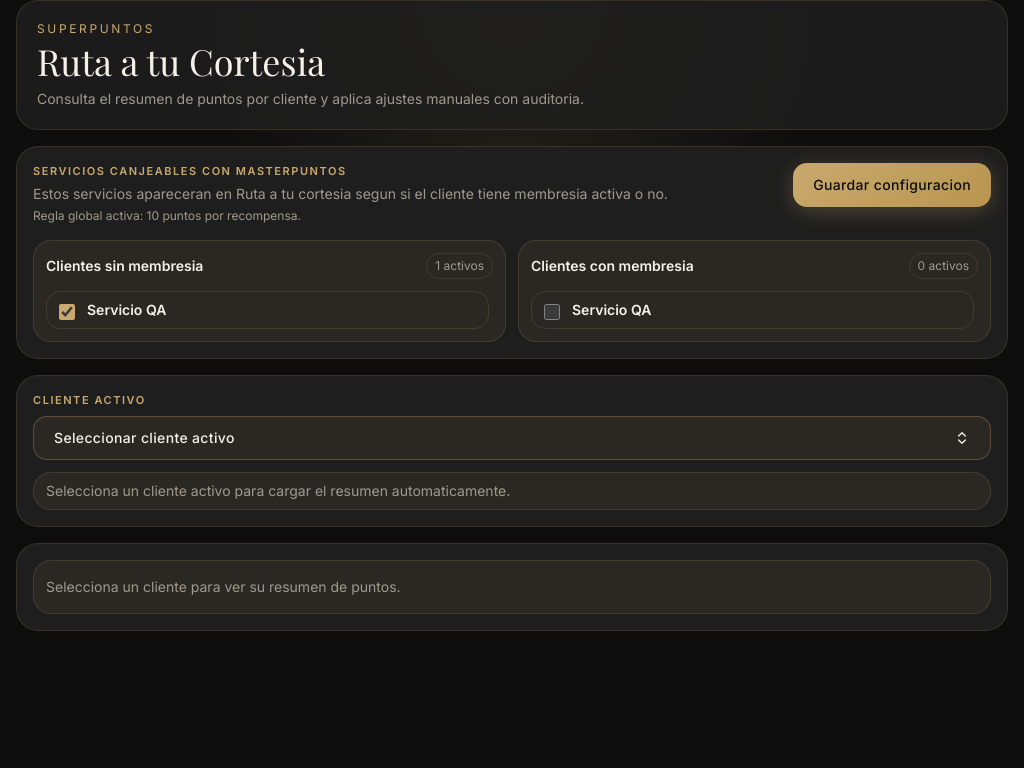
cambiar de administrador limpia saldo, cliente e historial anteriores
Expected: the text "Regla global activa: 10 puntos por recompensa." is shown, 33,208 -> 301,222
Click the button "Seleccionar cliente activo" at (144, 438), box 33,416 -> 991,460
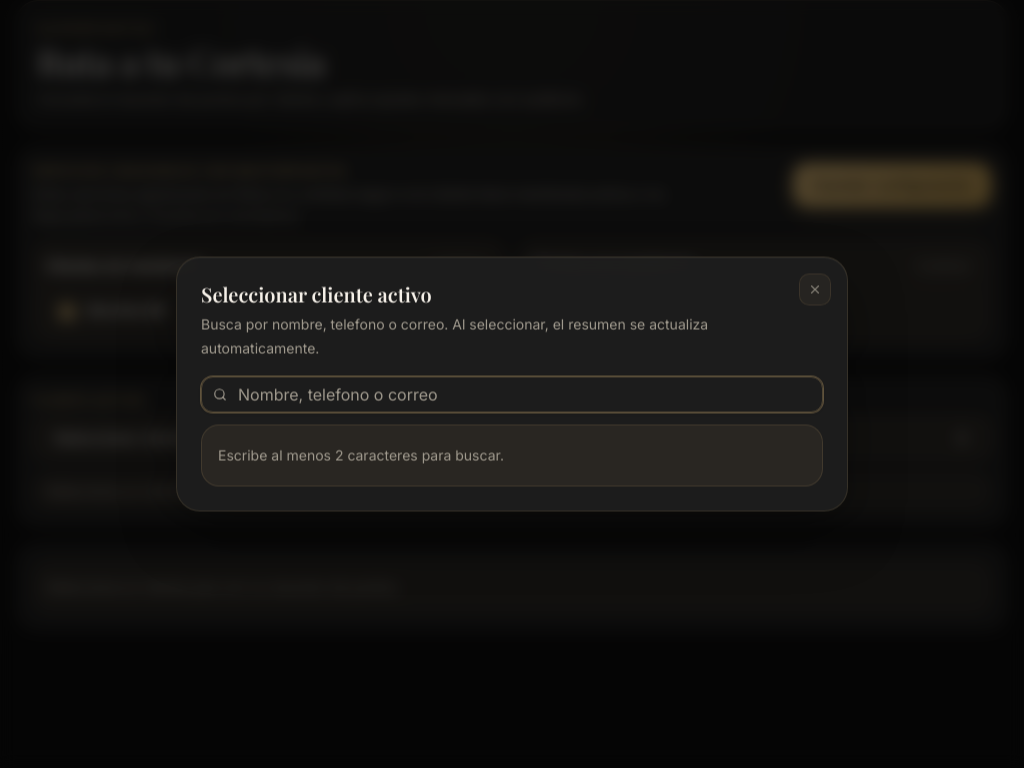
Type "Cliente" into the field named "Buscar cliente activo" at (512, 394), box 201,376 -> 823,412
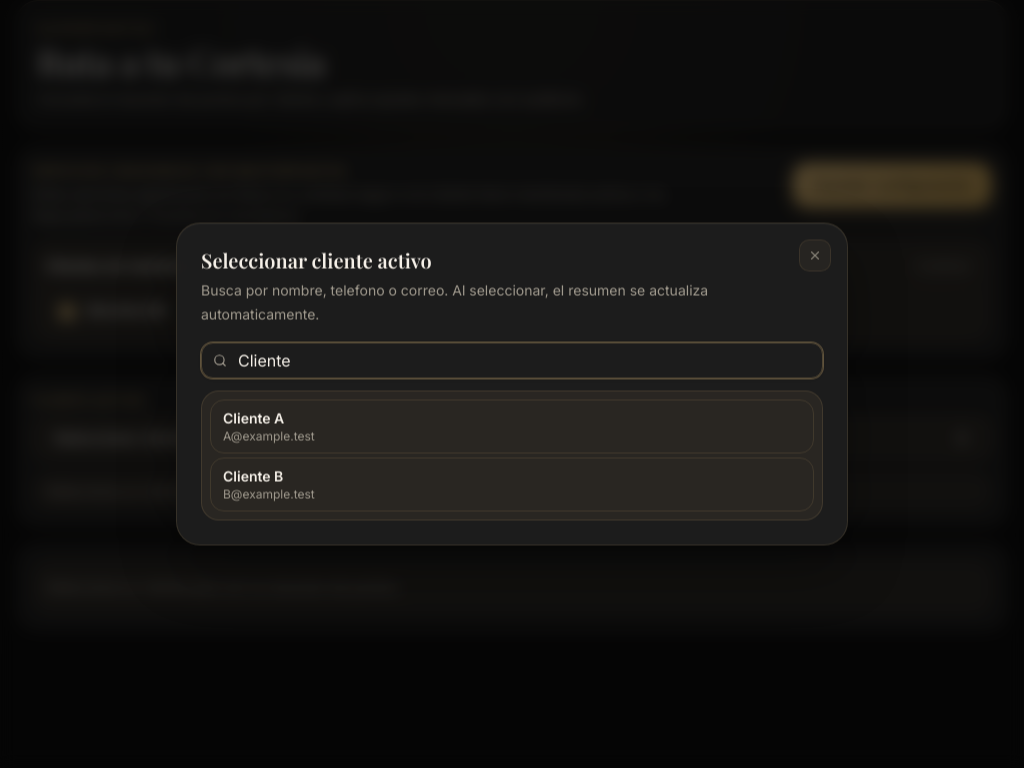
Click the button "Cliente A A@example.test" at (254, 418), box 210,400 -> 814,454
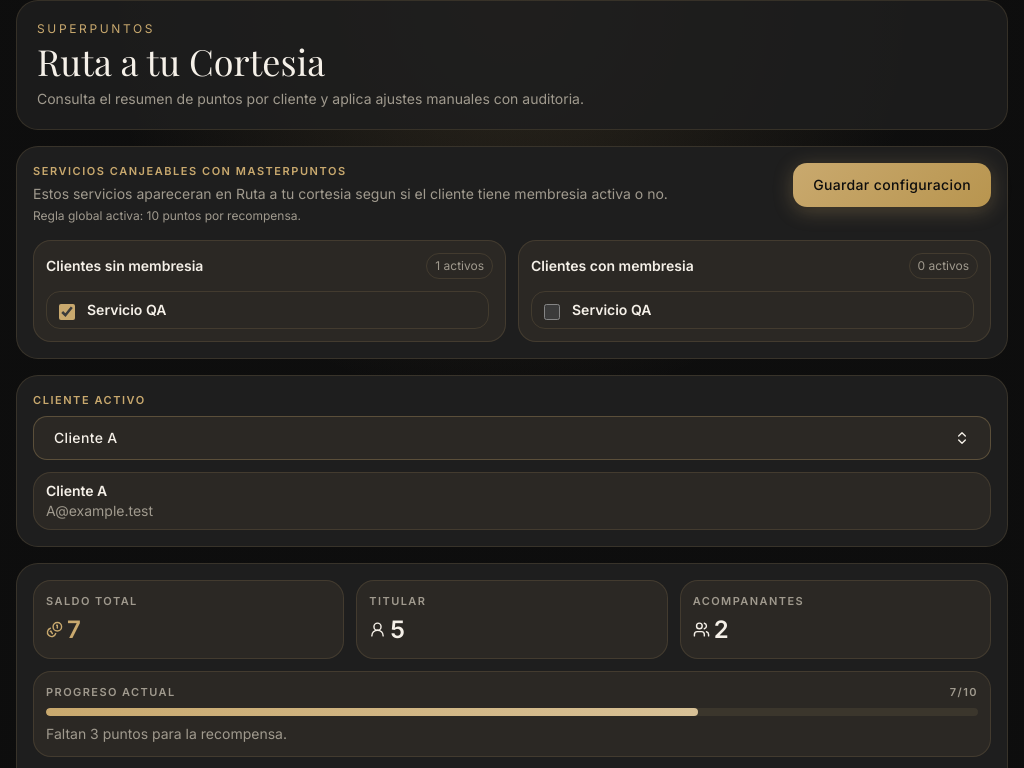
Expected: the text "Saldo total" is shown, 46,594 -> 138,608
Expected: the text "7" is shown, 46,614 -> 81,646
